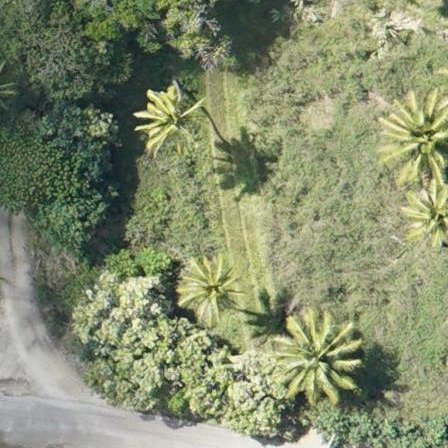palm_tree: (271, 306, 363, 405), (383, 93, 448, 182), (134, 86, 203, 159), (175, 258, 243, 319), (405, 185, 448, 246)
